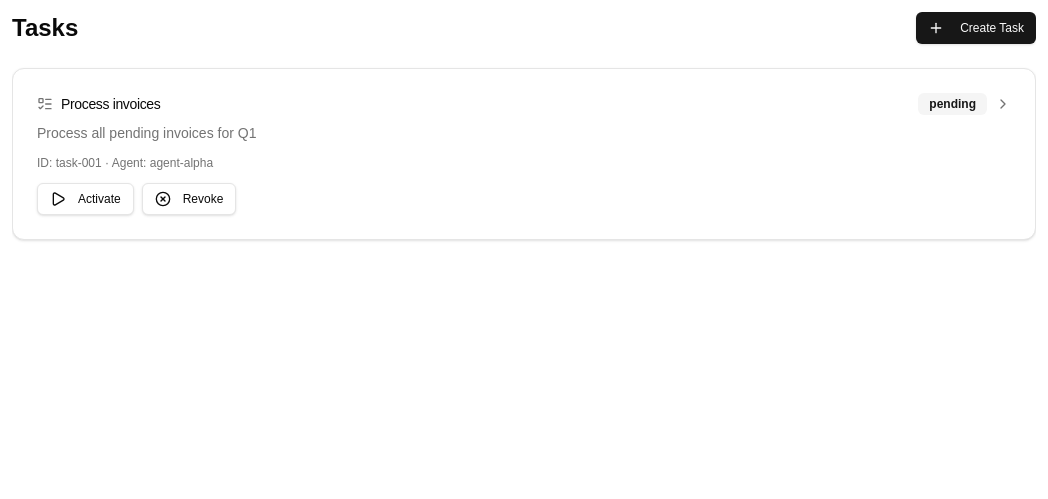
it: TasksPage › create form has name, description, and agent_id (required) fields
Expected: the link "Process invoices" is shown, 61,94 -> 160,114
Click the button "Create Task".
click(976, 28)  # box 916,12 -> 1036,44
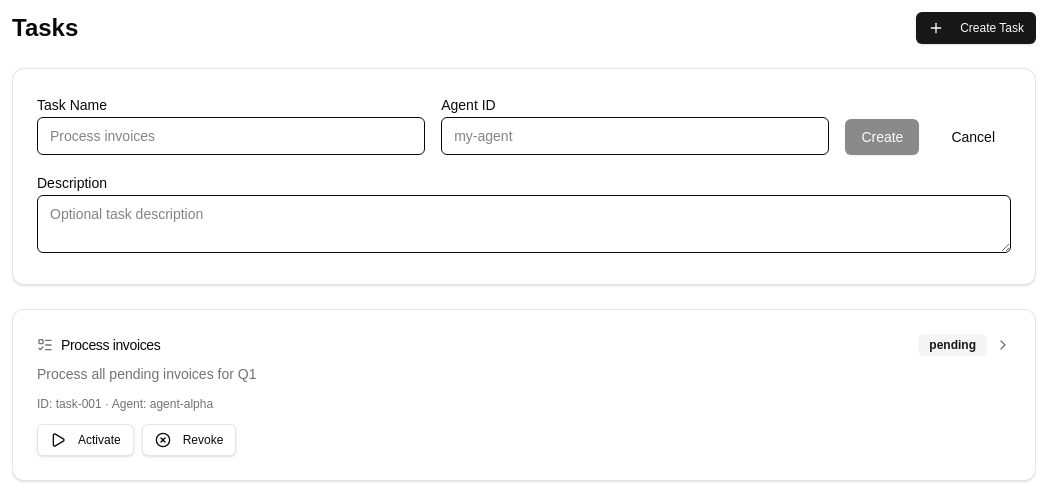
Now the field labelled "Task Name" is shown, box 37,117 -> 425,155
